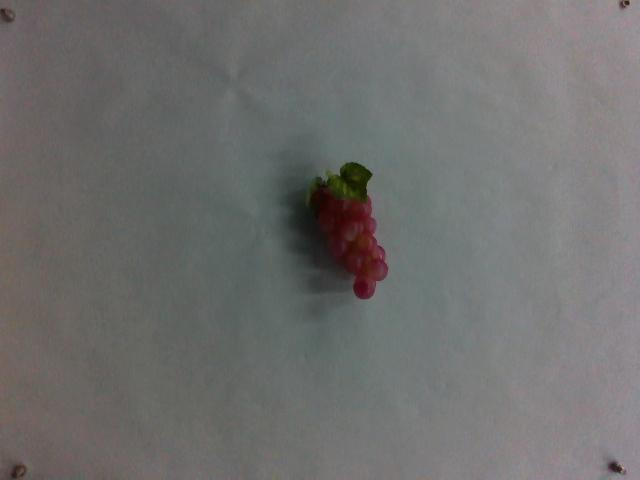grape: (307, 160, 387, 305)
